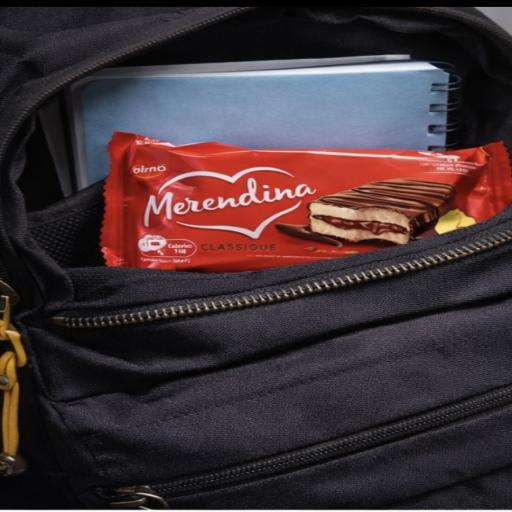merendina: (81, 105, 512, 312)
